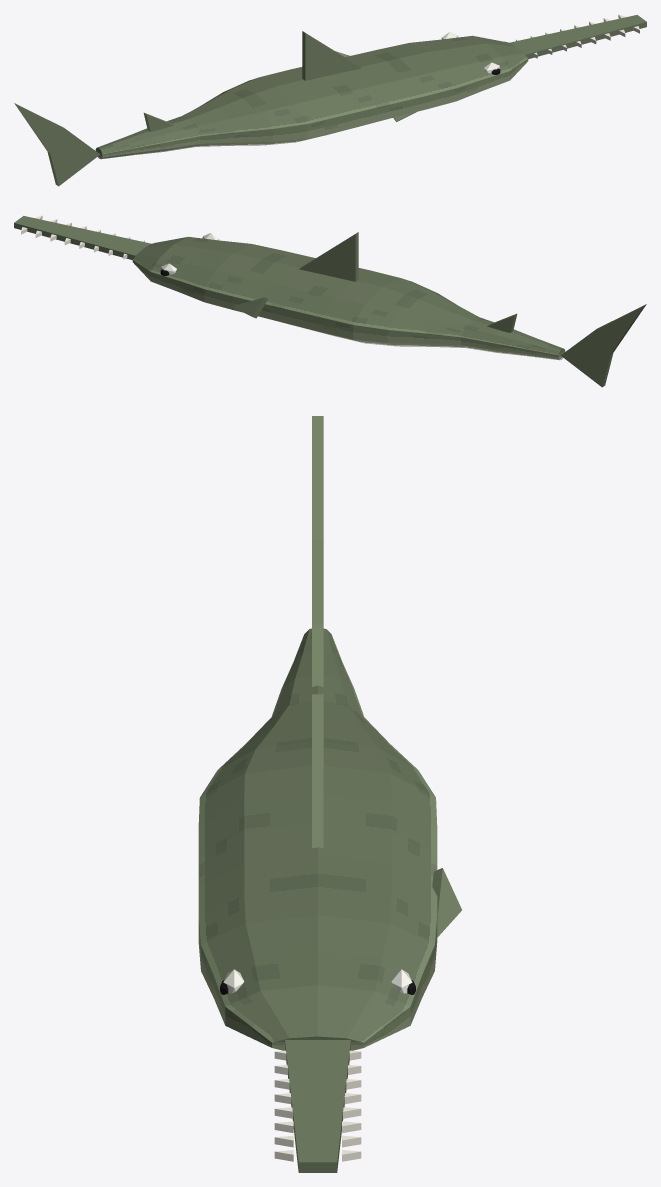
The model's file is green_sawfish.glb.
3 renders of one model, top to bottom at view 1: azimuth 30°, elevation 25°; view 2: azimuth 150°, elevation 25°; view 3: azimuth 270°, elevation 25°, orthographic. The views are drawn at different scales.
Visible parts, largest first — view 1: fish_green_sawfish; view 2: fish_green_sawfish; view 3: fish_green_sawfish.
Part boxes in pixels (bbox=[...]): fish_green_sawfish: bbox=[14, 14, 646, 186]; fish_green_sawfish: bbox=[14, 215, 646, 387]; fish_green_sawfish: bbox=[198, 416, 461, 1172].
Size of the model in its own units: 1.5 by 0.2183 by 0.2733.
Materials: 6 (1 with a texture image).
